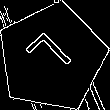L_SE: (23, 29, 81, 86)
